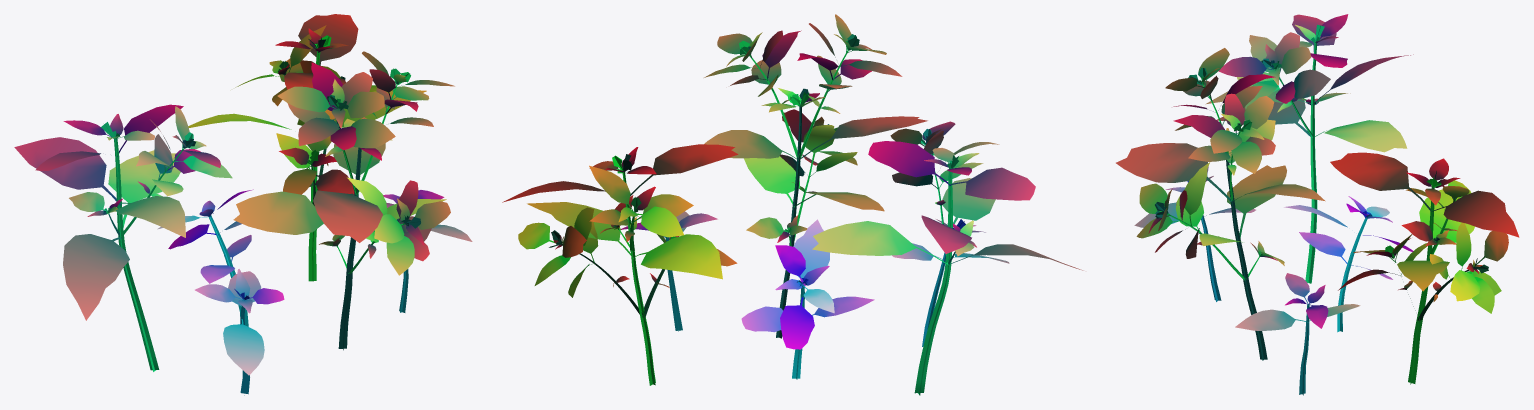
Rendered from Common_Hemp_Nettle_xh1kdfbqx_Mid_xh1kdfbqx_VarG_LOD0.fbx.
The picture shows the model from 3 angles, left to right: view 1: azimuth 30°, elevation 25°; view 2: azimuth 150°, elevation 25°; view 3: azimuth 270°, elevation 25°; orthographic projection. The views are drawn at different scales.
Parts seen in each view (by area): view 1: _iq0z_VarG_LOD1; view 2: _iq0z_VarG_LOD1; view 3: _iq0z_VarG_LOD1.
Part boxes in pixels (x1,y1,x2,y2): _iq0z_VarG_LOD1: [14, 14, 472, 395]; _iq0z_VarG_LOD1: [502, 14, 1083, 395]; _iq0z_VarG_LOD1: [1116, 14, 1519, 395].
Size of the model in its own units: 145 by 92.08 by 120.
